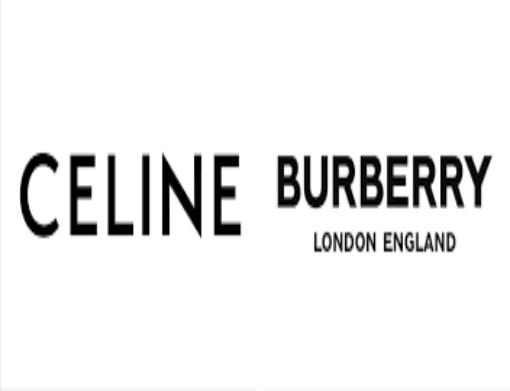CELINE: (18, 131, 250, 251)
